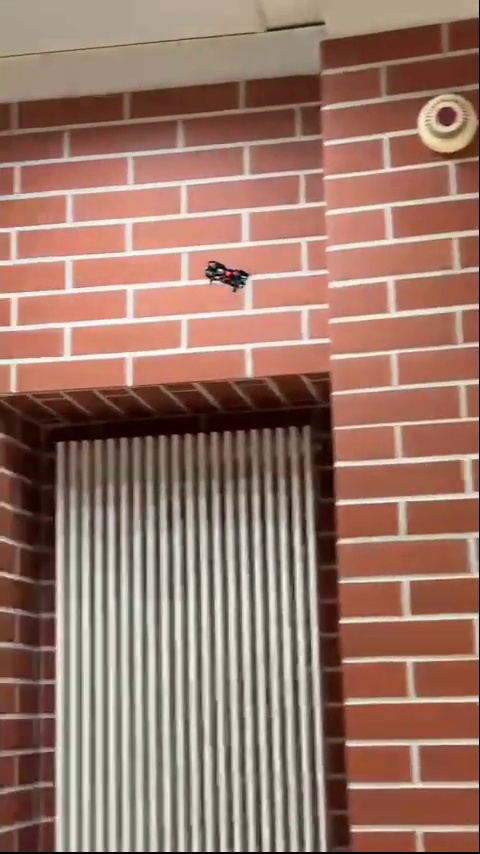drone: (203, 257, 247, 294)
